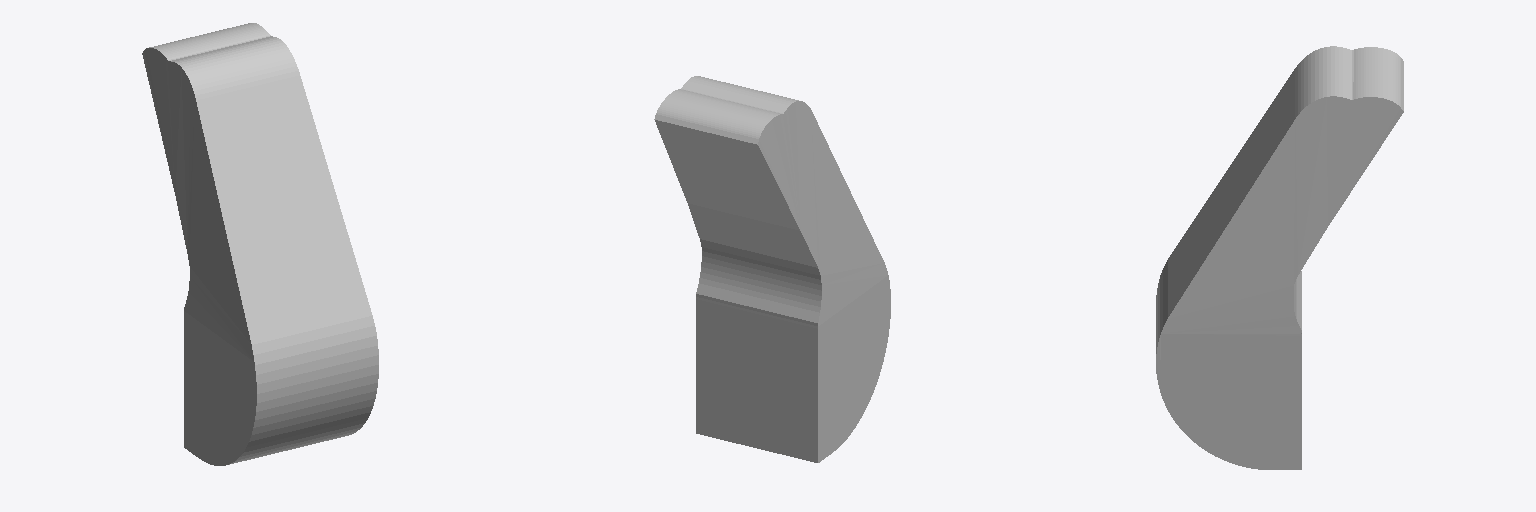
The model's file is CSM umbilical housing.obj.
3 renders of one model, left to right at view 1: azimuth 30°, elevation 25°; view 2: azimuth 150°, elevation 25°; view 3: azimuth 270°, elevation 25°, orthographic.
Parts seen in each view (by area): view 1: Mesh.001, Mesh; view 2: Mesh.001, Mesh; view 3: Mesh.002, Mesh.001.
Boxes of the visible parts, <box> form: Mesh.001: <box>149,23,378,464</box>; Mesh: <box>142,48,256,465</box>; Mesh.001: <box>654,76,821,462</box>; Mesh: <box>758,101,890,462</box>; Mesh.002: <box>1156,96,1403,469</box>; Mesh.001: <box>1156,46,1403,353</box>.
Bounding box in the file's own units: 0.4572 × 1.32 × 0.8034.